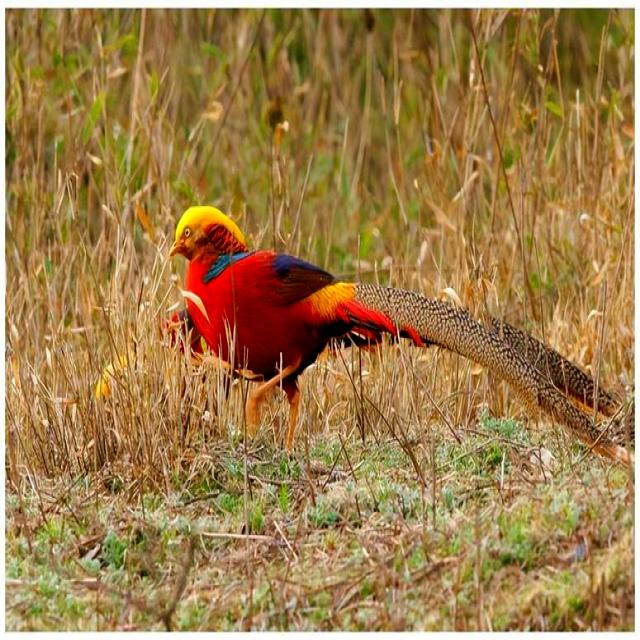Chrysolophus pictus feather: (352, 283, 629, 463)
